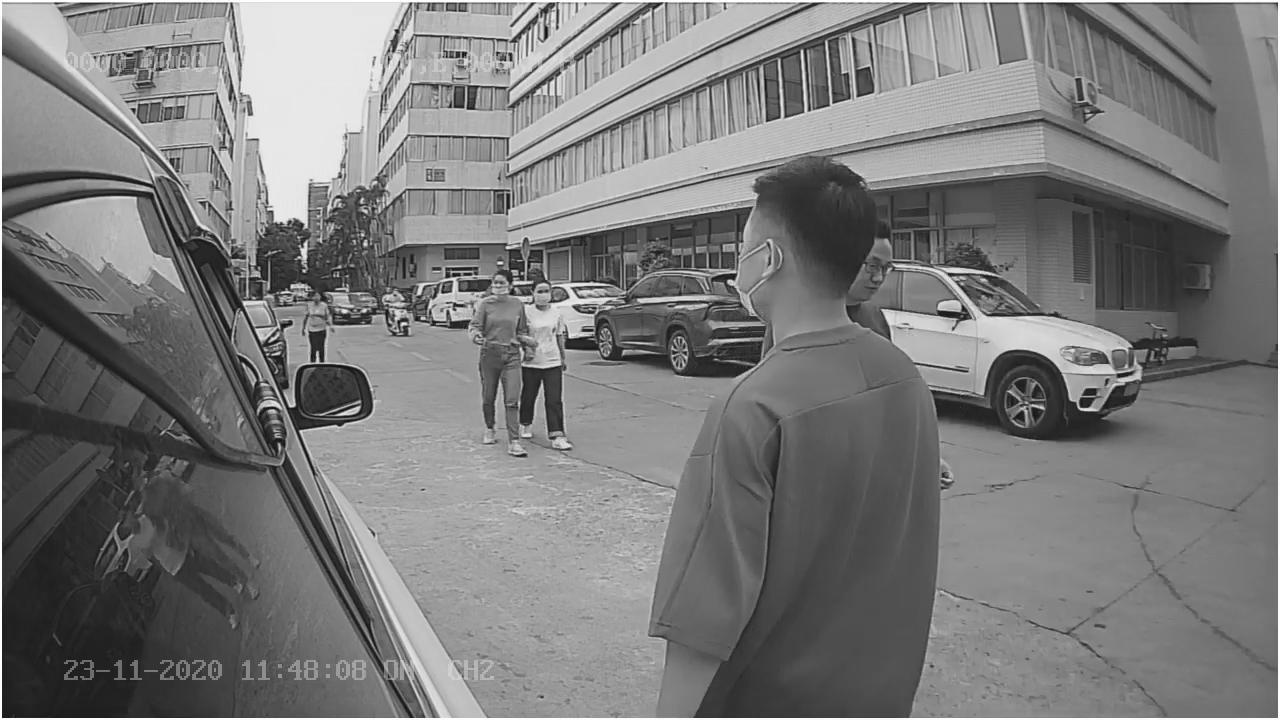person: (456, 270, 533, 459)
